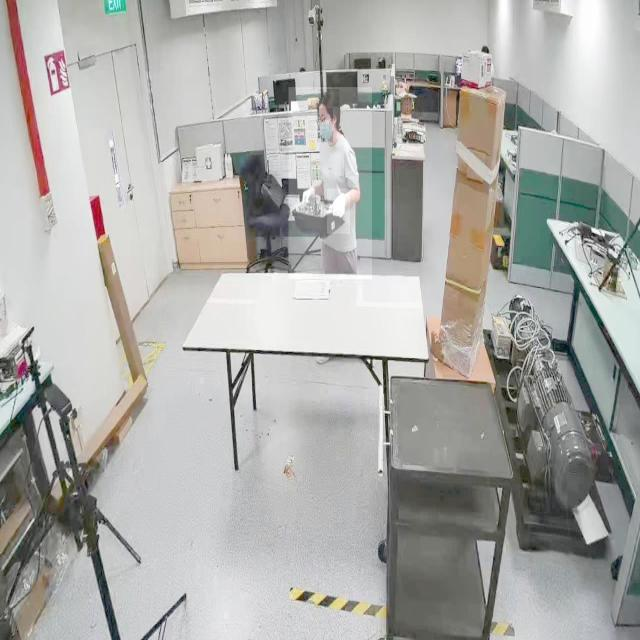face_mask: (317, 108, 333, 142)
hand_glove: (327, 188, 351, 234), (298, 186, 319, 220)
head_nohelmet: (318, 89, 340, 107)
person: (288, 87, 372, 280)
